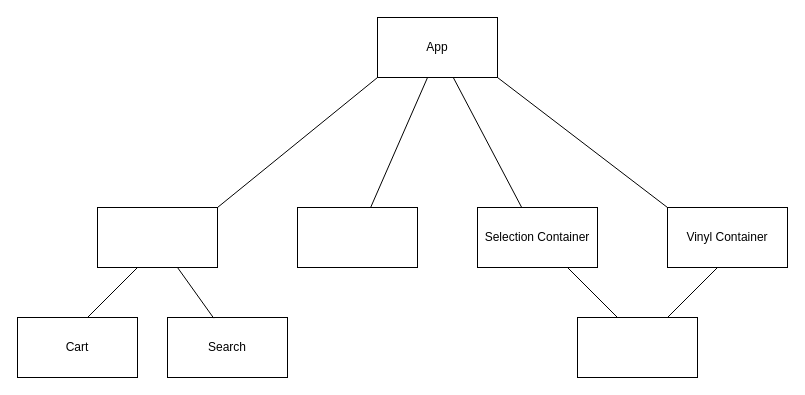
This 805x395 diagram has some shape labels left out. Here are the shapes that lost their labels. From the top down, the box of each, then its label:
(96, 206, 218, 268): Header
(296, 206, 418, 268): Footer
(576, 316, 698, 378): Vinyl Card
